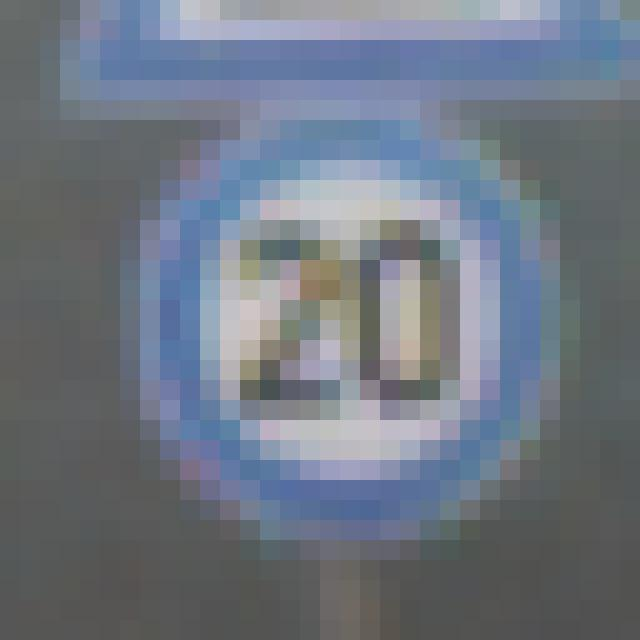SPEED LIMIT 20: (132, 135, 576, 543)
